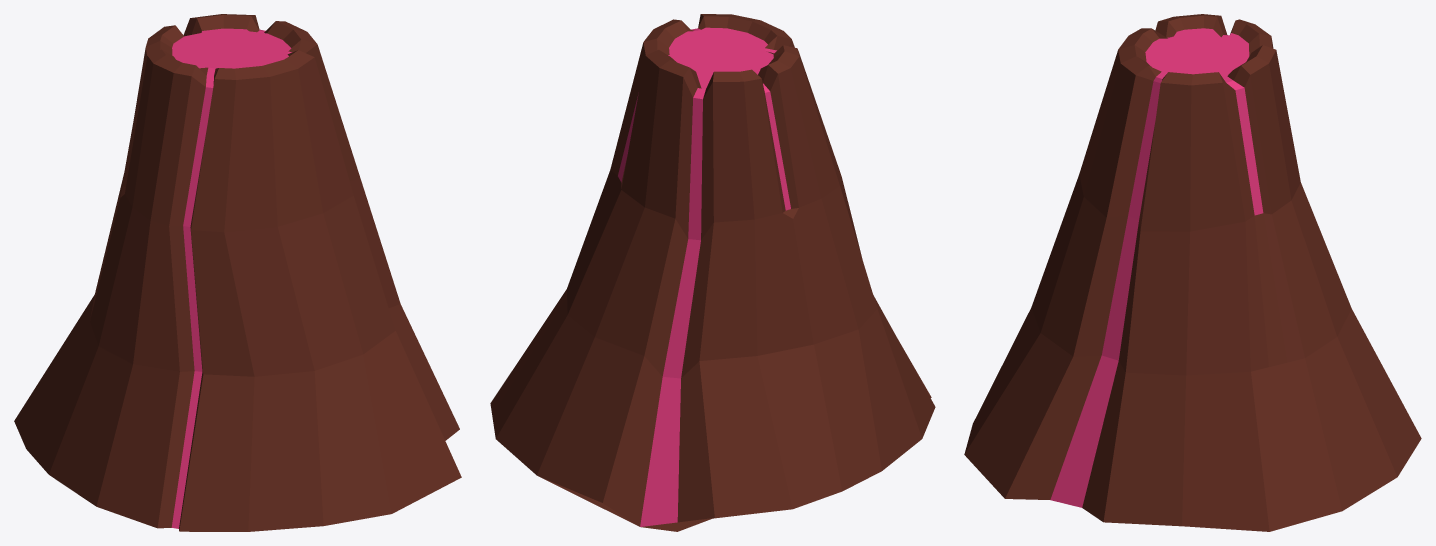
The model's file is volcano.fbx.
The picture shows the model from 3 angles, left to right: view 1: azimuth 30°, elevation 25°; view 2: azimuth 150°, elevation 25°; view 3: azimuth 270°, elevation 25°; orthographic projection. The views are drawn at different scales.
Visible parts, largest first — view 1: Cylinder; view 2: Cylinder; view 3: Cylinder.
Boxes of the visible parts, x1,y1,x2,y2 form: Cylinder: [14, 14, 461, 531]; Cylinder: [490, 14, 935, 531]; Cylinder: [964, 14, 1421, 531].
Bounding box in the file's own units: 591 × 621 × 630.
